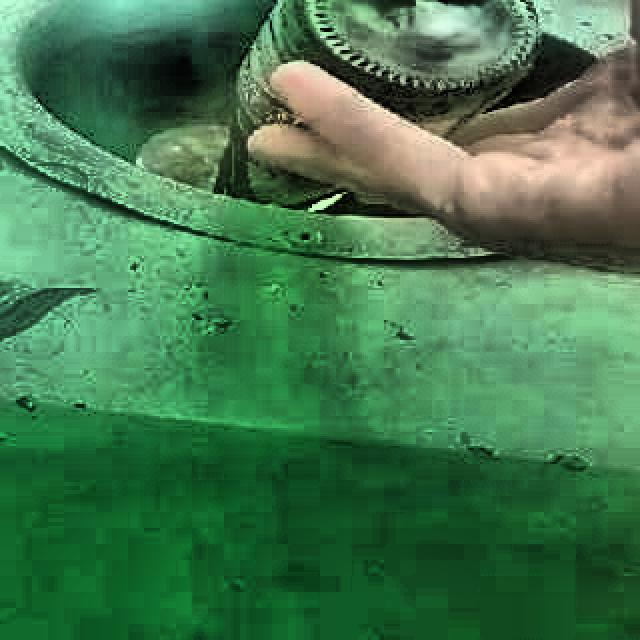glass: (216, 0, 541, 205)
